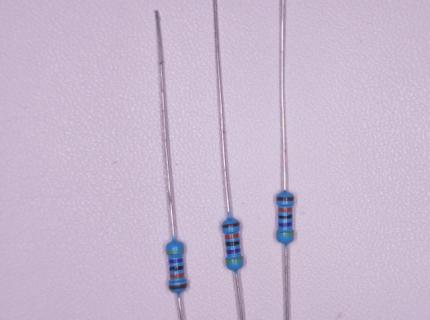Black band: (169, 265, 184, 271), (225, 241, 239, 246), (279, 214, 292, 219)
Brown band: (169, 283, 187, 290), (222, 222, 240, 228), (276, 196, 294, 201)
Orange band: (225, 233, 239, 239), (170, 273, 184, 278), (279, 207, 292, 212)
Violet band: (226, 248, 241, 254), (169, 259, 183, 264), (278, 222, 292, 227)
Yellow band: (226, 257, 244, 265), (166, 249, 184, 255), (276, 232, 294, 236)
